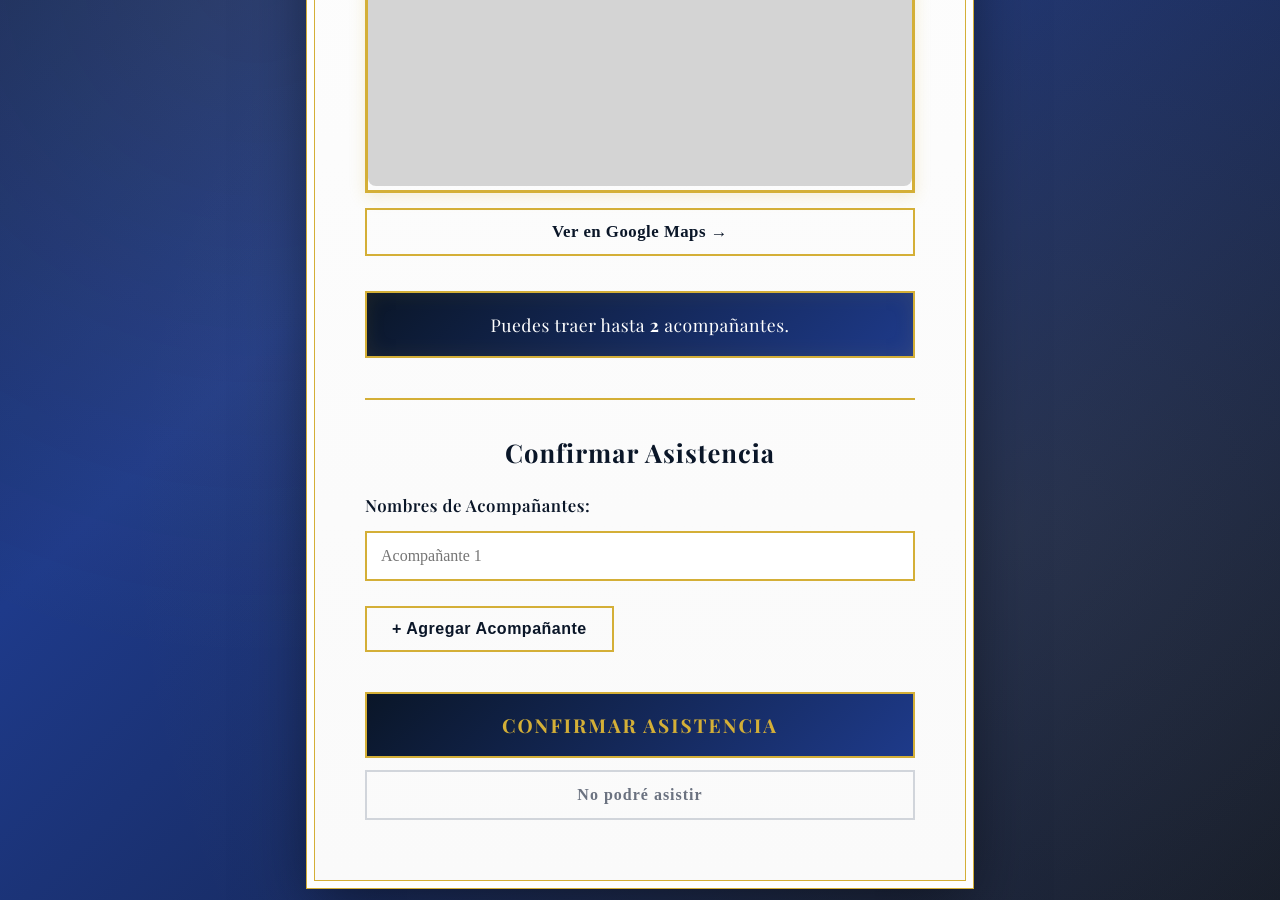
Test: InvitationPage › Test de envío exitoso de confirmación › should successfully submit confirmation without companions
The width and height of the screenshot is (1280, 900).
(page scrolled)
# Submit without adding companions
Click the button "Confirmar Asistencia".
click(640, 725)  # box [365,692,915,758]
(page scrolled)
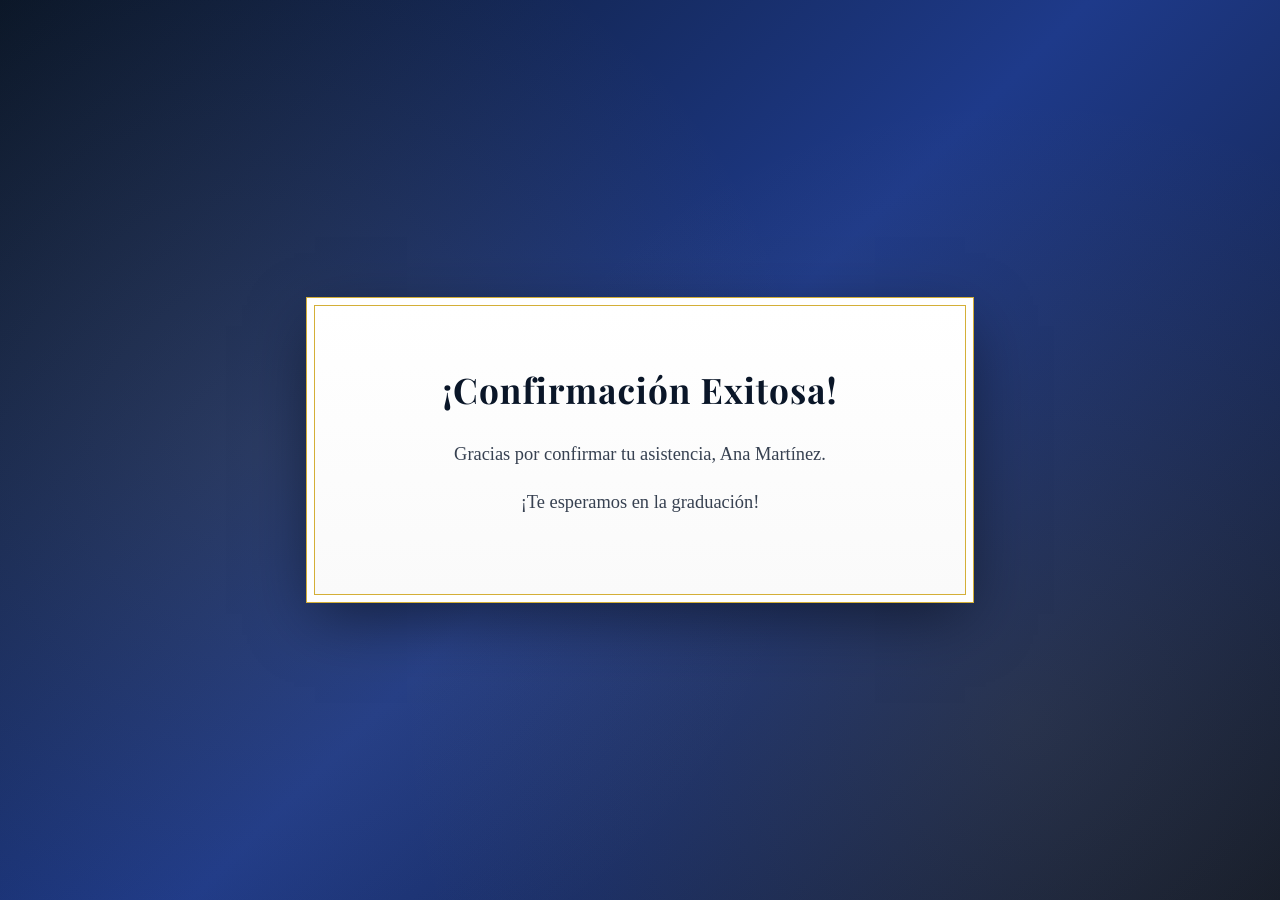
Expected: the heading "¡Confirmación Exitosa!" is shown, [442,366,838,413]
Expected: the text "Gracias por confirmar tu asistencia, Ana Martínez." is shown, [454,444,826,464]
